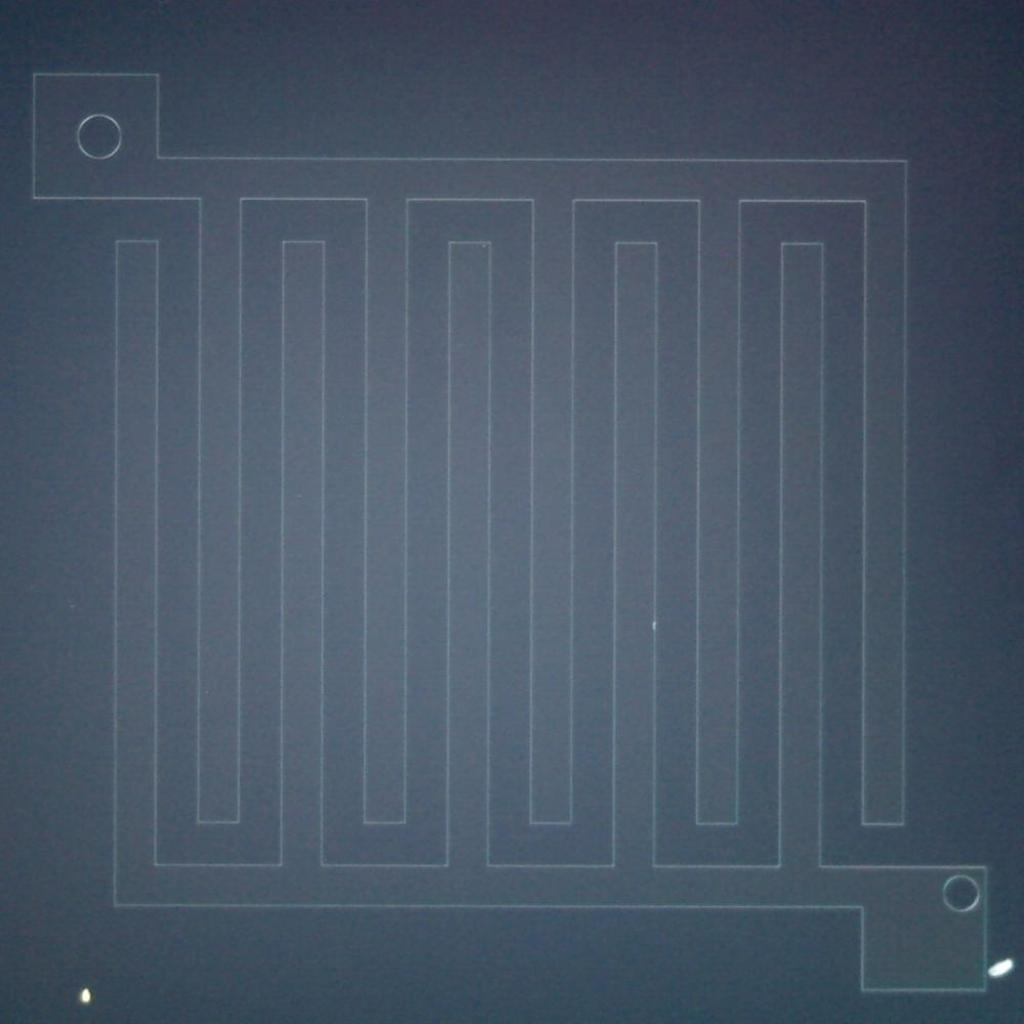Bdot: (988, 952, 1014, 981)
dot: (79, 989, 93, 1002)
